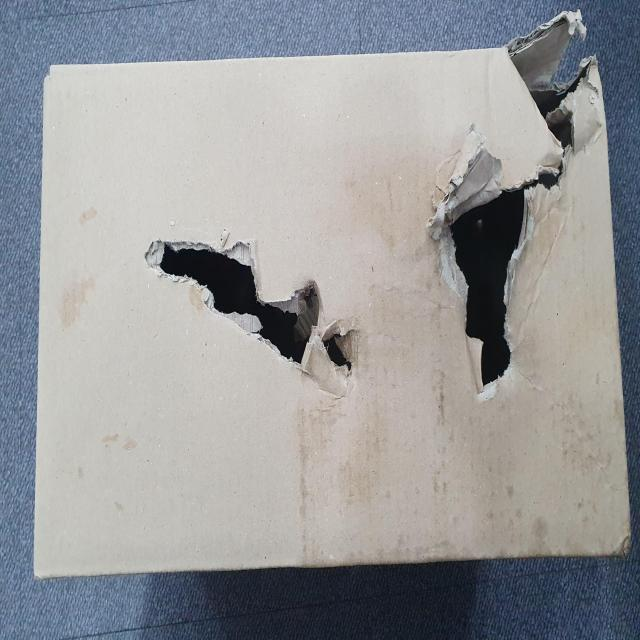damaged: (419, 147, 574, 400), (148, 223, 362, 406), (512, 51, 600, 150)
